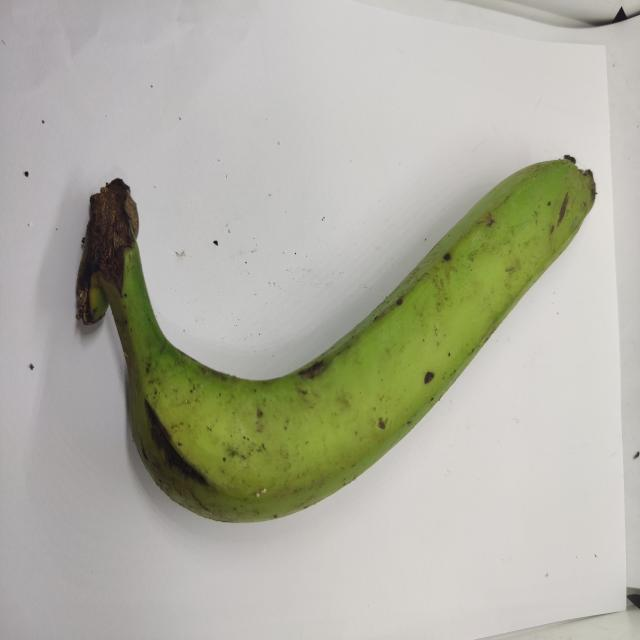Raw: (67, 88, 606, 544)
